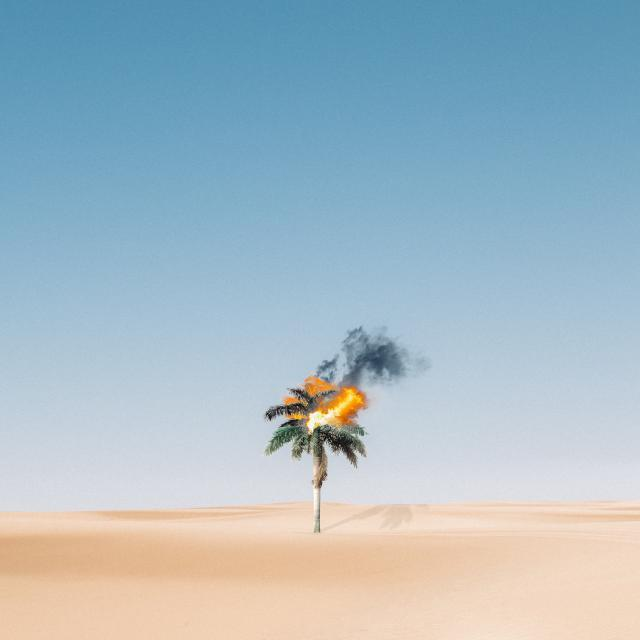Fire: (284, 375, 365, 437)
Smoke: (313, 326, 434, 376)
